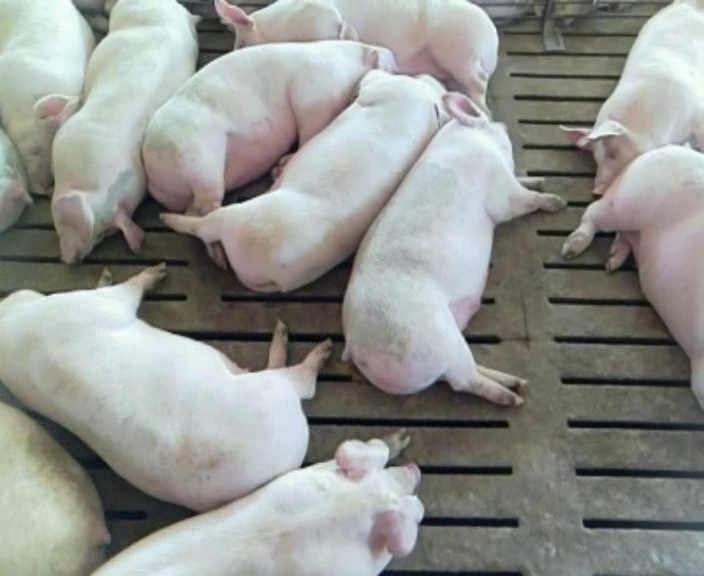pig: (343, 93, 564, 404), (161, 71, 447, 291), (95, 430, 422, 574), (51, 1, 197, 262), (562, 145, 703, 408), (216, 2, 498, 108), (567, 3, 703, 194)
